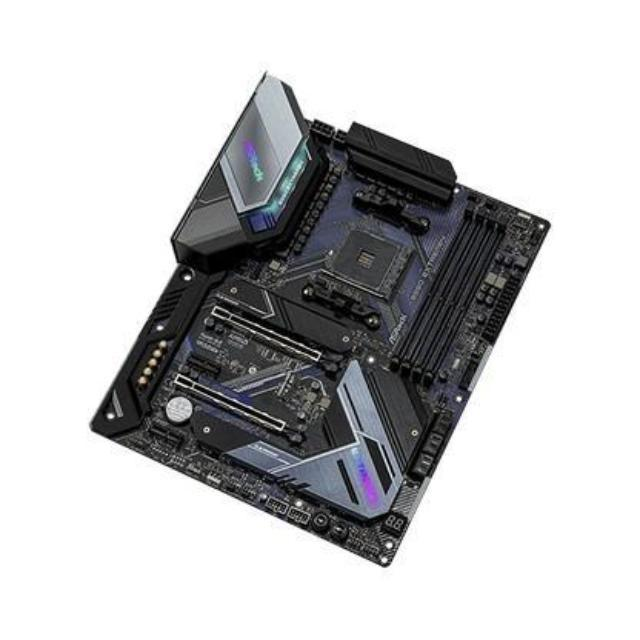Mainboard: (87, 64, 550, 572)
